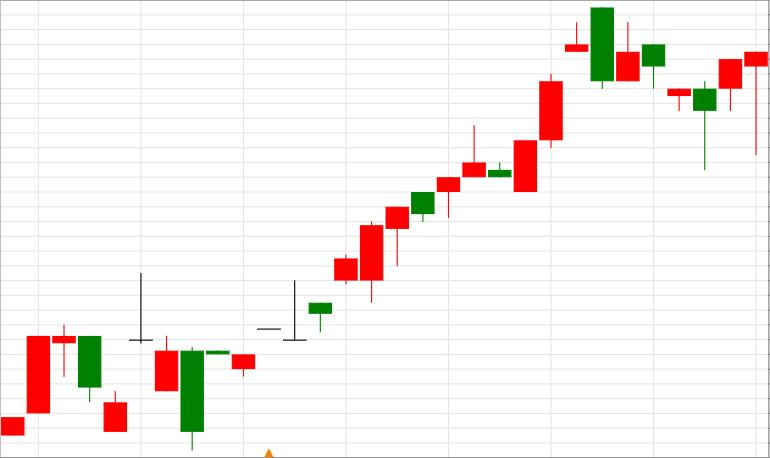bearish_engulfing_fall: (334, 7, 614, 303)
